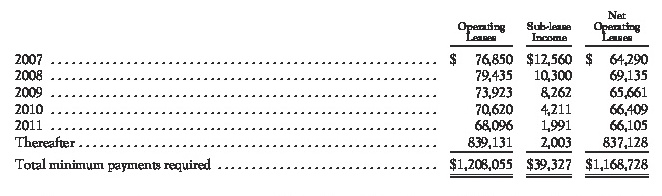table: (0, 0, 662, 196)
